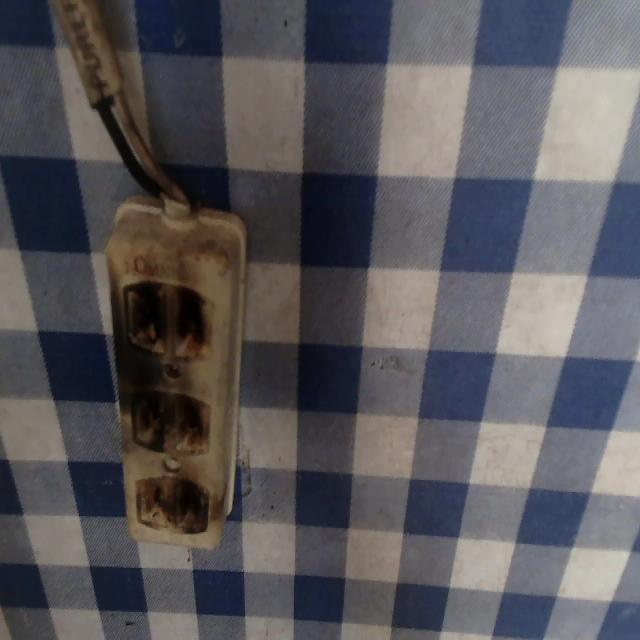-: (119, 275, 211, 361), (128, 383, 209, 456), (133, 469, 209, 535)
